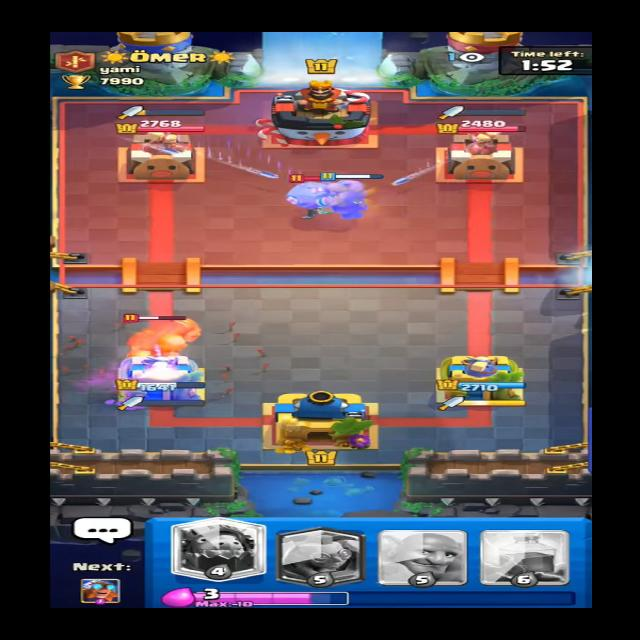Arrows: (56, 314, 284, 407)
Giant: (102, 310, 215, 366)
